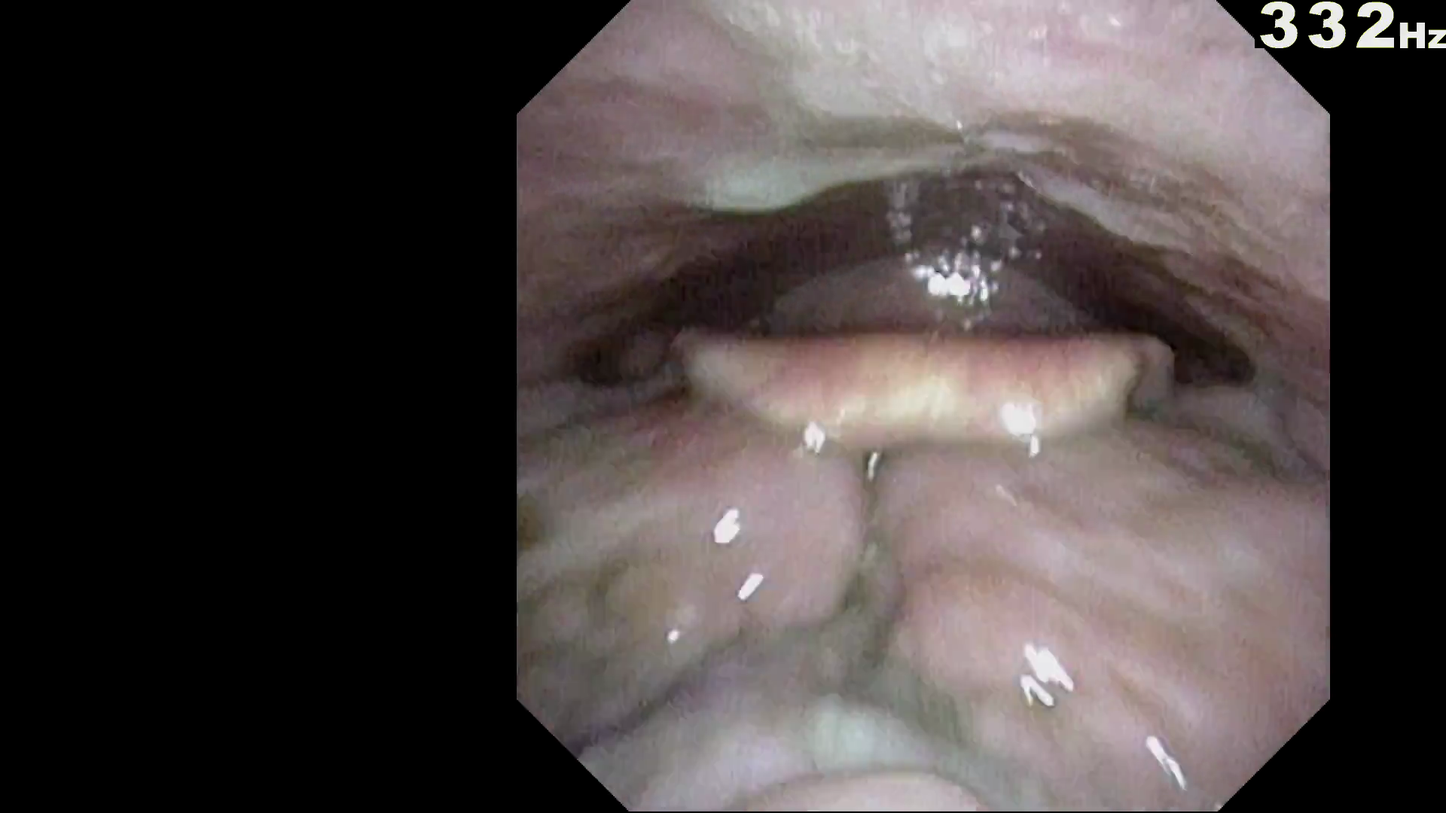epiglottis: (603, 455, 1193, 605)
trachea: (845, 414, 1005, 486)
